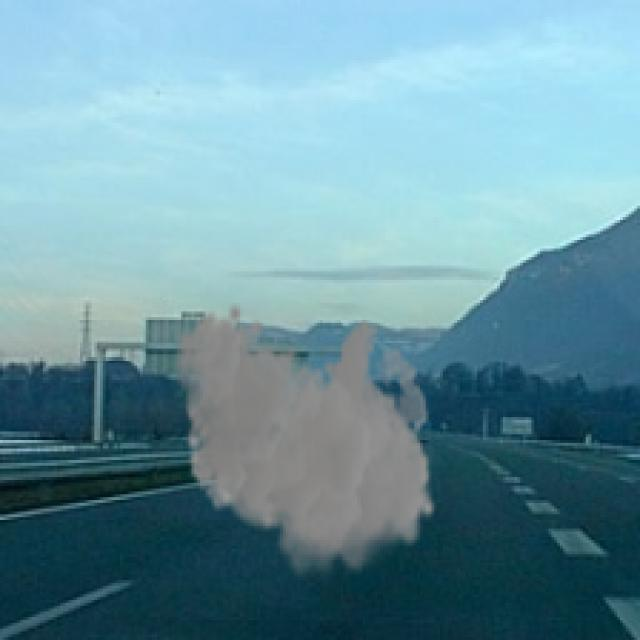smoke: (174, 303, 437, 586)
